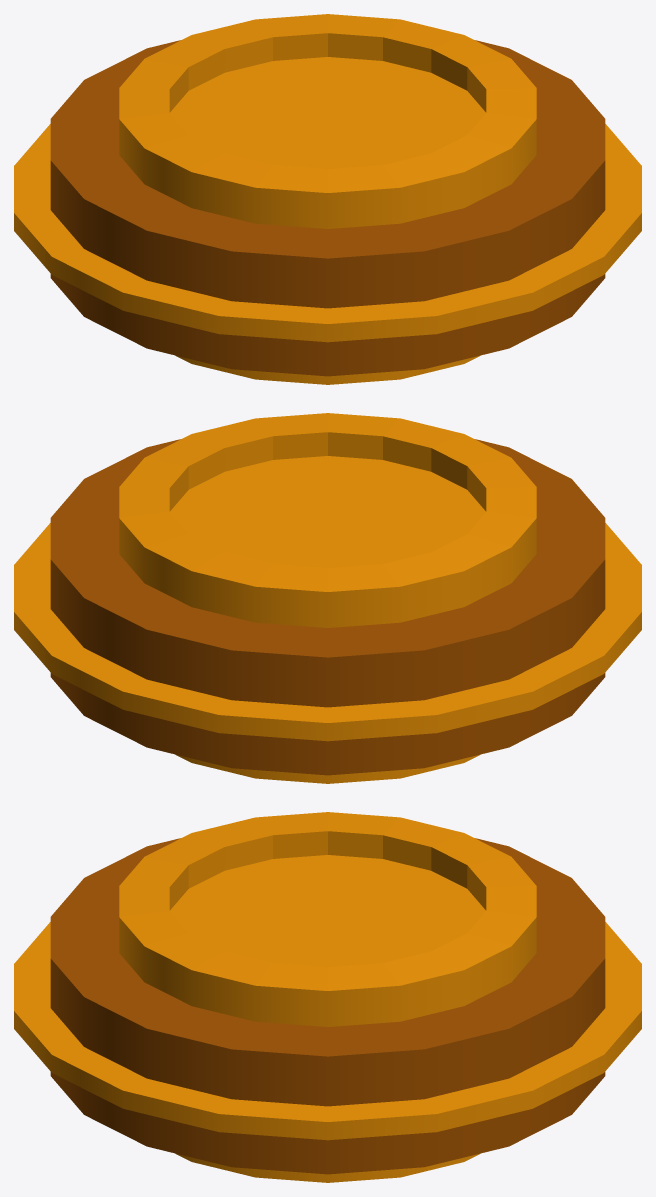
The model's file is coin.FBX.
The picture shows the model from 3 angles, top to bottom: view 1: azimuth 30°, elevation 25°; view 2: azimuth 150°, elevation 25°; view 3: azimuth 270°, elevation 25°; orthographic projection.
Visible parts, largest first — view 1: coin; view 2: coin; view 3: coin.
Part boxes in pixels (left/top/right/bottom): coin: left=14, top=14, right=641, bottom=384; coin: left=14, top=413, right=641, bottom=783; coin: left=14, top=812, right=641, bottom=1182.
Size of the model in its own units: 16.69 by 5.72 by 16.44.
